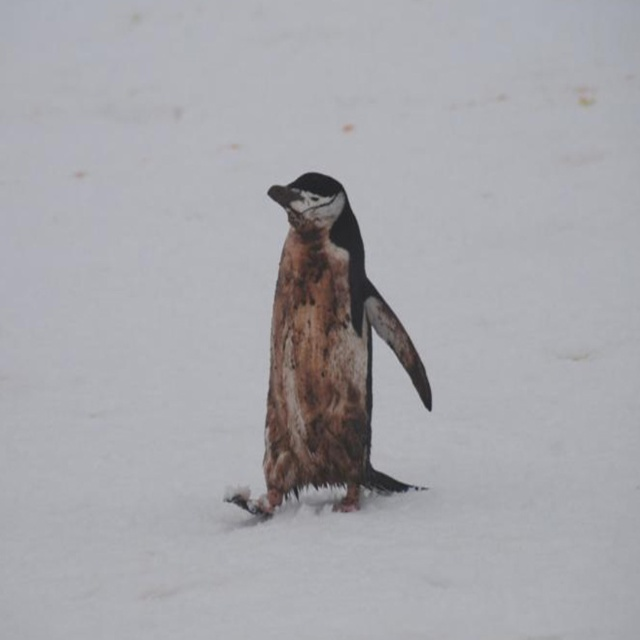Penguin: (229, 167, 433, 514)
